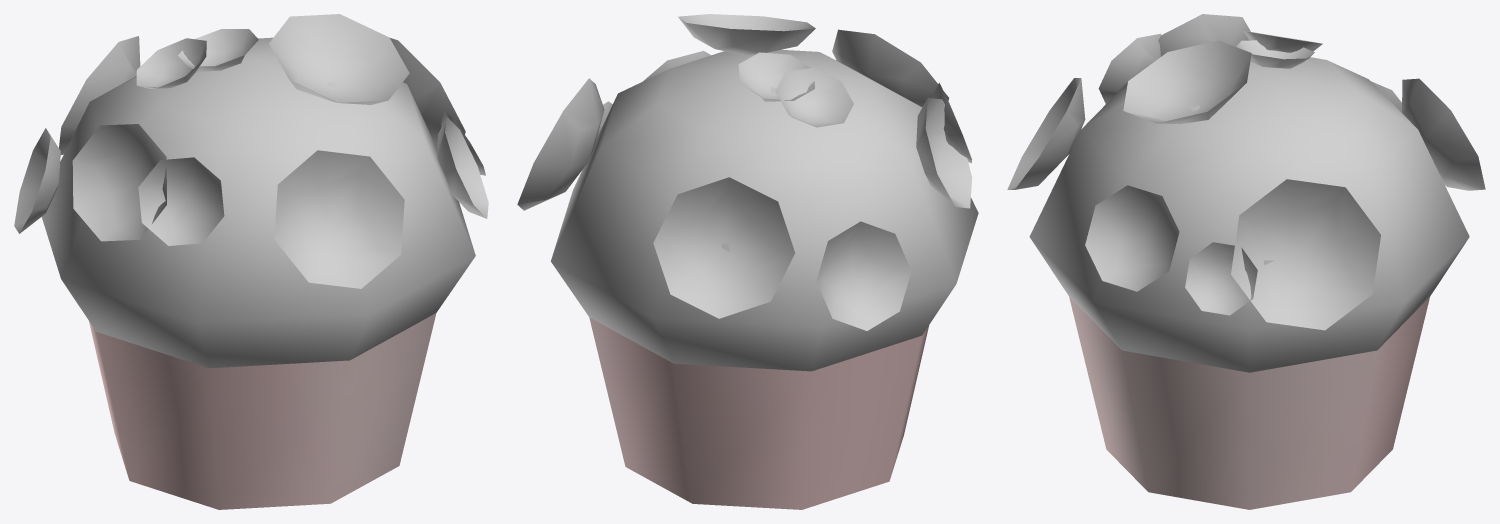
File: bac de fleurs.fbx
3 views of the same model, side by side, from view 1: azimuth 30°, elevation 25°; view 2: azimuth 150°, elevation 25°; view 3: azimuth 270°, elevation 25° (orthographic). The views are drawn at different scales.
Visible parts, largest first — view 1: bac de fleurs; view 2: bac de fleurs; view 3: bac de fleurs.
Boxes of the visible parts, bbox=[...] form: bac de fleurs: bbox=[14, 14, 488, 509]; bac de fleurs: bbox=[517, 14, 978, 509]; bac de fleurs: bbox=[1007, 14, 1485, 509].
Bounding box in the file's own units: 79.97 × 79.6 × 83.69.
